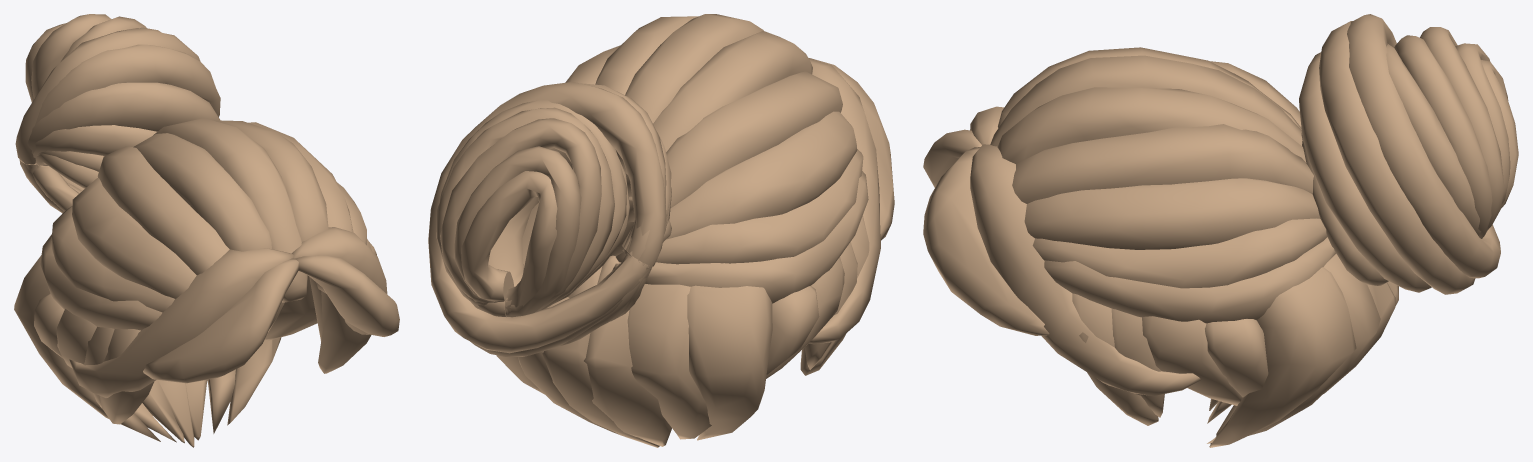
Rendered from hair-3-0350c917.glb.
The picture shows the model from 3 angles, left to right: view 1: azimuth 30°, elevation 25°; view 2: azimuth 150°, elevation 25°; view 3: azimuth 270°, elevation 25°; orthographic projection. The views are drawn at different scales.
Parts seen in each view (by area): view 1: Geo_White_Older_Female_Hair_3.001; view 2: Geo_White_Older_Female_Hair_3.001; view 3: Geo_White_Older_Female_Hair_3.001.
Boxes of the visible parts, x1=… form: Geo_White_Older_Female_Hair_3.001: x1=14, y1=14, x2=399, y2=447; Geo_White_Older_Female_Hair_3.001: x1=428, y1=14, x2=894, y2=447; Geo_White_Older_Female_Hair_3.001: x1=923, y1=14, x2=1518, y2=447.
Size of the model in its own units: 1.68 by 2.07 by 2.68.
